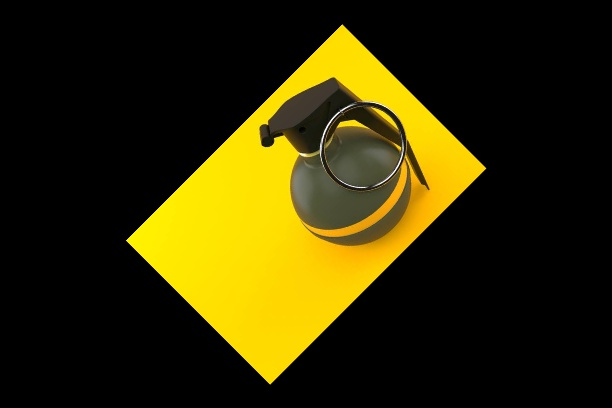e1: (255, 74, 429, 244)
